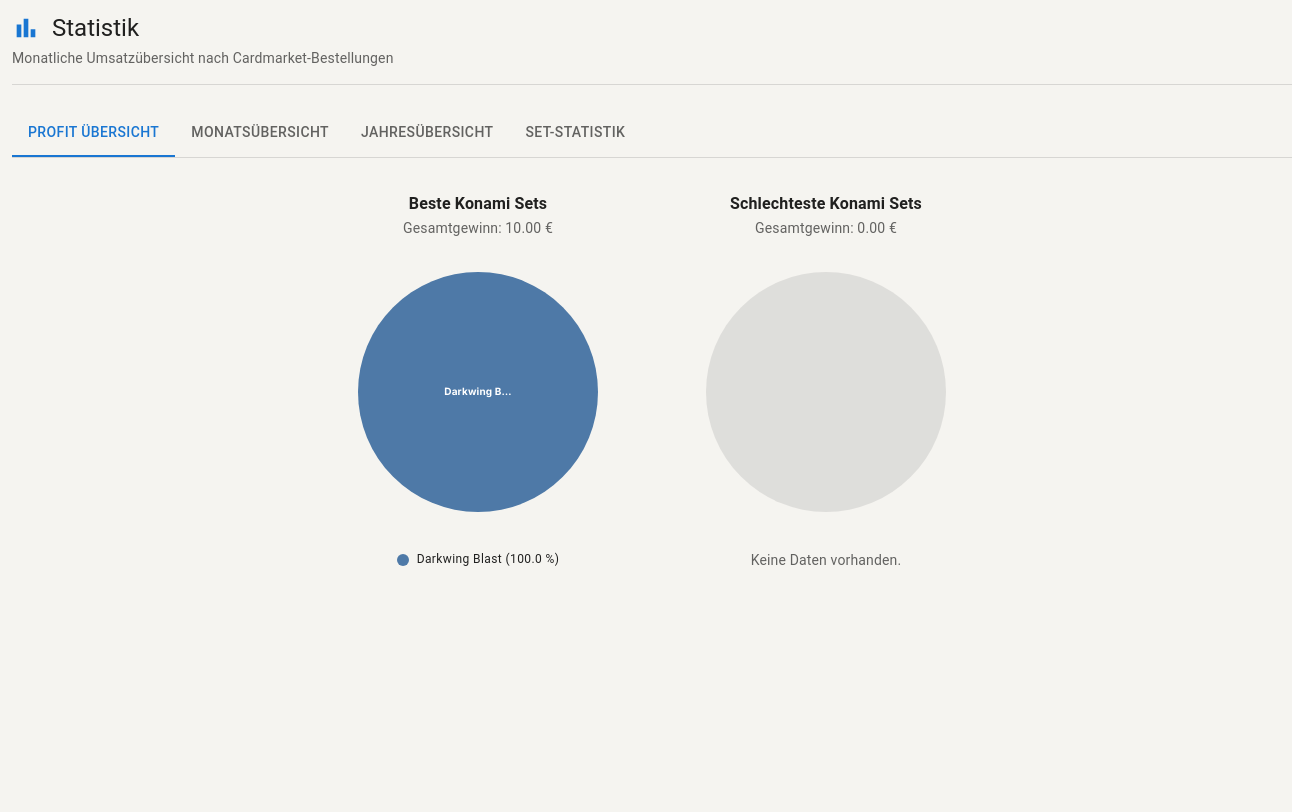
Statistik › shows Jahresübersicht tab with yearly rows
The image size is (1292, 812).
Click the tab "Jahresübersicht" at (427, 133), box [345,109,510,157]
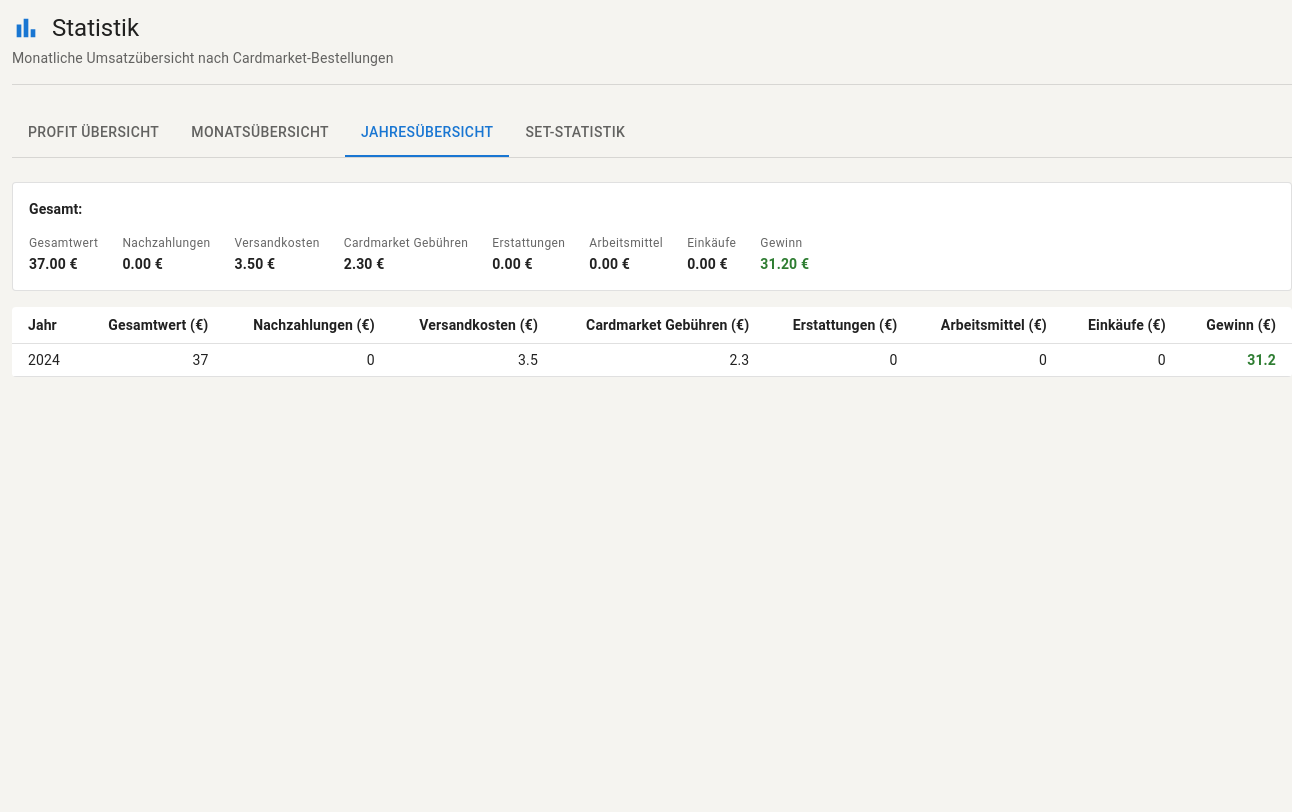
Check: the text "2024" is shown, box [12,343,81,376]
